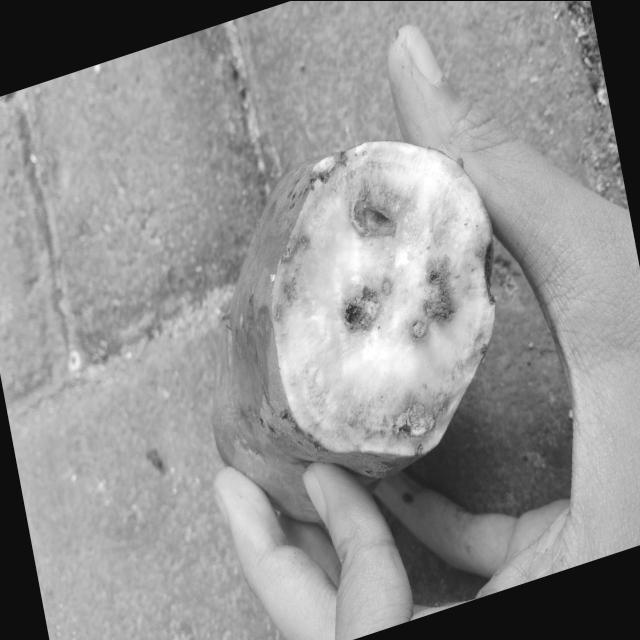Sick Sweet Potato_Tuber Rot: (272, 140, 495, 475)
